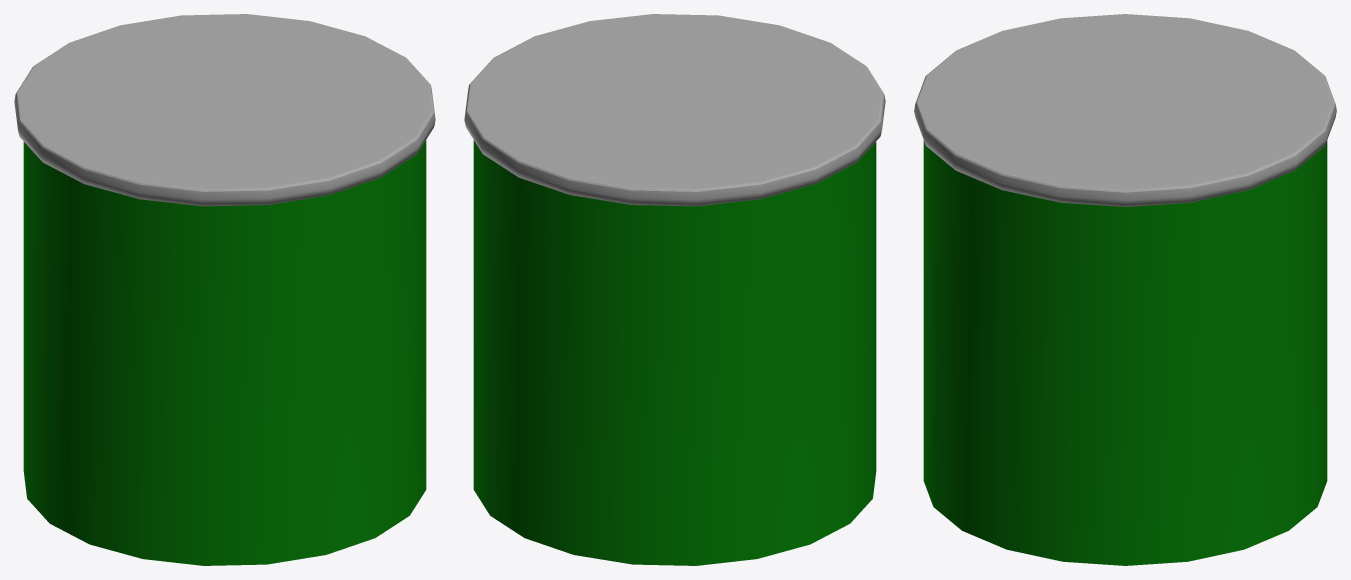
The model's file is Terreno_Cilindro.fbx.
The picture shows the model from 3 angles, left to right: view 1: azimuth 30°, elevation 25°; view 2: azimuth 150°, elevation 25°; view 3: azimuth 270°, elevation 25°; orthographic projection.
Parts seen in each view (by area): view 1: Terreno_Cilindro; view 2: Terreno_Cilindro; view 3: Terreno_Cilindro.
Part boxes in pixels (x1,y1,x2,y2): Terreno_Cilindro: [14, 14, 435, 565]; Terreno_Cilindro: [464, 14, 885, 565]; Terreno_Cilindro: [914, 14, 1336, 565].
Bounding box in the file's own units: 202 × 199 × 202.
